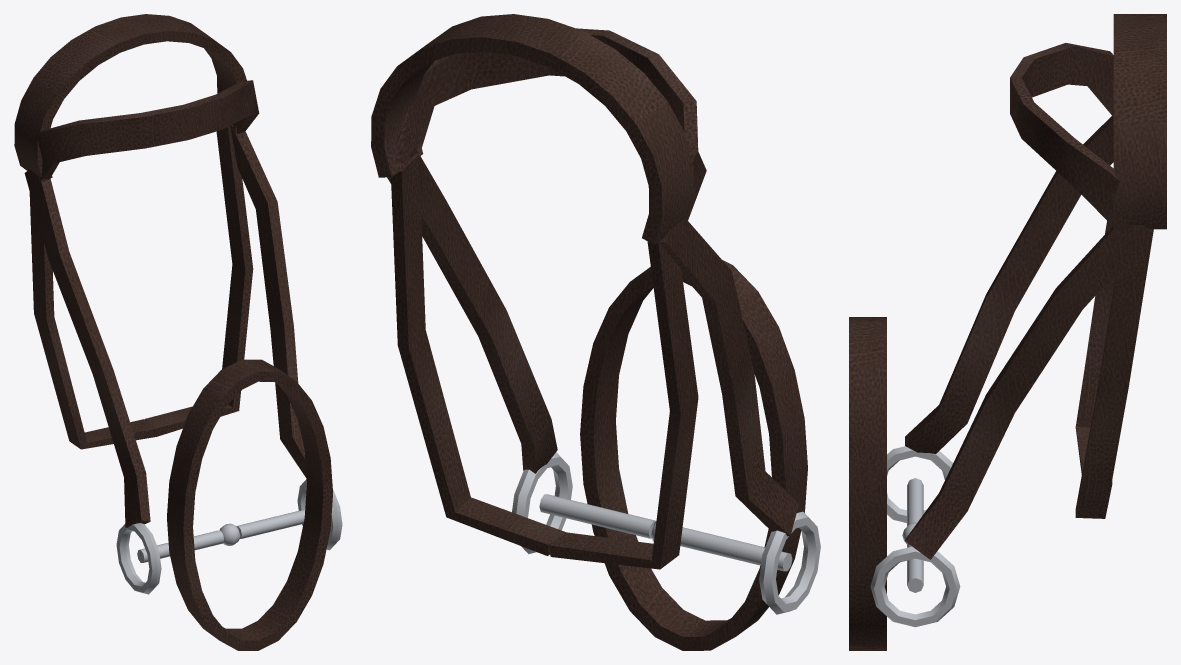
Rendered from horse_bridle.glb.
3 renders of one model, left to right at view 1: azimuth 30°, elevation 25°; view 2: azimuth 150°, elevation 25°; view 3: azimuth 270°, elevation 25°, orthographic. The views are drawn at different scales.
Visible parts, largest first — view 1: Bridle_Noseband, Bridle_Crown, Bridle_Browband, Bridle_Cheek_R, Bridle_Cheek_L, Bridle_Throat_L, Bridle_Throat_R, Bridle_BitRing_R, Bridle_Bit_L, Bridle_BitRing_L, Bridle_Bit_R; view 2: Bridle_Noseband, Bridle_Crown, Bridle_Throat_L, Bridle_Cheek_R, Bridle_Throat_R, Bridle_Cheek_L, Bridle_Browband, Bridle_BitRing_R, Bridle_Bit_L, Bridle_BitRing_L, Bridle_Bit_R; view 3: Bridle_Cheek_L, Bridle_Noseband, Bridle_Cheek_R, Bridle_Crown, Bridle_Browband, Bridle_Throat_L, Bridle_BitRing_L, Bridle_Throat_R, Bridle_BitRing_R, Bridle_Bit_R, Bridle_Bit_L.
Part boxes in pixels (x1,y1,x2,y2): Bridle_Noseband: (167,359,332,650); Bridle_Crown: (14,14,246,181); Bridle_Browband: (35,80,259,183); Bridle_Cheek_R: (24,169,150,527); Bridle_Cheek_L: (230,125,306,478); Bridle_Throat_L: (144,126,253,436); Bridle_Throat_R: (29,192,156,449); Bridle_BitRing_R: (116,523,161,594); Bridle_Bit_L: (236,509,305,539); Bridle_BitRing_L: (297,479,342,550); Bridle_Bit_R: (137,530,224,562); Bridle_Noseband: (580,260,807,650); Bridle_Crown: (371,14,693,244); Bridle_Throat_L: (391,153,566,555); Bridle_Cheek_R: (659,219,798,536); Bridle_Throat_R: (549,241,698,569); Bridle_Cheek_L: (387,146,557,473); Bridle_Browband: (395,28,706,228); Bridle_BitRing_R: (759,511,820,614); Bridle_Bit_L: (539,494,656,538); Bridle_BitRing_L: (512,452,572,554); Bridle_Bit_R: (680,527,792,571); Bridle_Cheek_L: (905,225,1152,559); Bridle_Noseband: (849,317,886,650); Bridle_Cheek_R: (905,116,1113,453); Bridle_Crown: (1113,14,1166,229); Bridle_Browband: (1010,43,1132,233); Bridle_Throat_L: (1075,229,1153,518); Bridle_BitRing_L: (870,546,960,627); Bridle_Throat_R: (1075,221,1116,474); Bridle_BitRing_R: (887,446,952,522); Bridle_Bit_R: (907,478,923,526); Bridle_Bit_L: (907,543,923,592).
Size of the model in its own units: 0.2457 by 0.574 by 0.2685.
Materials: 2 (1 with a texture image).
